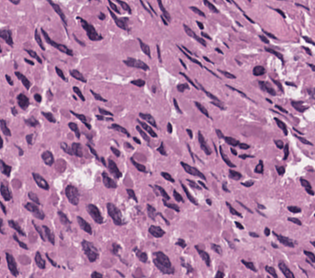nucleus: (41, 28, 72, 55), (77, 17, 102, 40), (177, 46, 202, 66), (183, 24, 206, 45), (48, 1, 66, 26), (181, 162, 205, 179), (108, 8, 127, 29), (273, 231, 296, 247), (199, 84, 220, 101), (181, 182, 197, 204), (107, 202, 123, 224), (137, 119, 156, 137), (24, 202, 44, 219), (219, 146, 234, 167), (265, 48, 283, 64), (124, 58, 148, 70), (180, 72, 198, 88), (157, 0, 170, 22), (87, 204, 102, 223), (198, 131, 210, 154), (65, 185, 79, 204), (32, 173, 48, 189), (139, 113, 157, 127), (77, 216, 91, 234), (226, 85, 246, 97), (108, 159, 121, 177), (138, 38, 150, 57), (110, 124, 129, 136), (42, 225, 54, 244), (154, 185, 169, 200), (259, 81, 275, 95), (102, 172, 116, 188), (274, 118, 287, 135), (32, 222, 44, 240), (194, 101, 208, 116), (226, 202, 241, 216), (25, 49, 41, 62), (300, 178, 313, 194), (70, 111, 87, 123), (136, 126, 149, 141), (87, 143, 99, 159), (163, 199, 179, 211), (117, 0, 131, 13), (131, 158, 145, 171), (203, 0, 218, 12), (35, 30, 44, 50), (70, 70, 85, 82), (294, 135, 312, 145), (149, 225, 164, 237), (90, 90, 106, 101), (291, 101, 308, 111), (55, 67, 67, 81), (41, 151, 53, 165), (68, 122, 79, 137), (73, 86, 84, 100), (71, 142, 82, 156), (237, 201, 251, 212), (58, 211, 69, 225), (190, 6, 205, 16), (223, 136, 239, 145), (28, 192, 40, 204), (126, 188, 137, 201), (218, 70, 235, 78), (262, 30, 277, 39), (146, 204, 155, 219), (108, 0, 119, 12), (272, 79, 283, 91), (42, 112, 55, 122), (187, 179, 200, 189), (173, 98, 181, 113), (229, 169, 241, 179), (161, 172, 173, 182), (157, 142, 166, 155), (73, 35, 84, 45), (253, 65, 264, 75), (61, 143, 71, 154), (173, 190, 183, 201), (211, 101, 224, 109), (255, 160, 263, 173), (288, 217, 301, 225), (274, 8, 285, 17), (131, 79, 145, 86), (98, 108, 112, 115), (187, 144, 193, 160), (243, 13, 253, 22), (303, 36, 314, 44), (177, 83, 188, 91), (276, 105, 287, 113), (156, 45, 161, 62), (176, 238, 185, 247), (283, 144, 288, 159), (259, 35, 268, 43), (303, 46, 311, 55), (111, 147, 119, 156), (275, 166, 284, 174), (288, 206, 300, 212), (161, 15, 168, 25), (201, 32, 211, 39), (203, 56, 213, 63), (275, 140, 283, 148), (198, 180, 206, 188), (235, 221, 243, 229), (179, 59, 186, 68), (241, 181, 253, 186), (196, 21, 203, 29), (34, 93, 41, 101), (216, 129, 223, 137), (239, 154, 253, 158), (222, 183, 229, 191), (238, 143, 249, 148), (186, 129, 192, 138), (98, 12, 105, 19), (249, 232, 258, 237), (308, 63, 314, 70), (133, 137, 140, 143), (264, 227, 269, 235), (286, 82, 295, 86), (167, 123, 171, 132), (230, 148, 236, 154), (96, 115, 103, 119), (215, 48, 221, 52), (266, 98, 271, 102), (206, 199, 210, 204), (272, 243, 277, 247), (311, 241, 314, 245)
